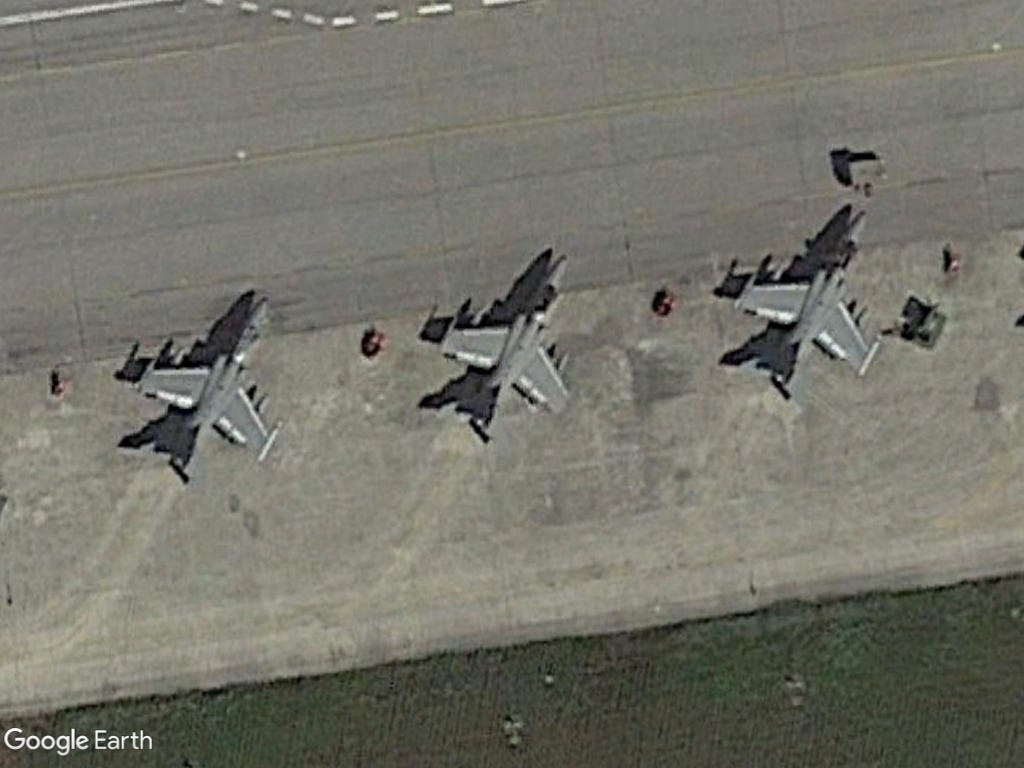fighter: (727, 207, 887, 410), (134, 294, 291, 497), (434, 246, 585, 451)
